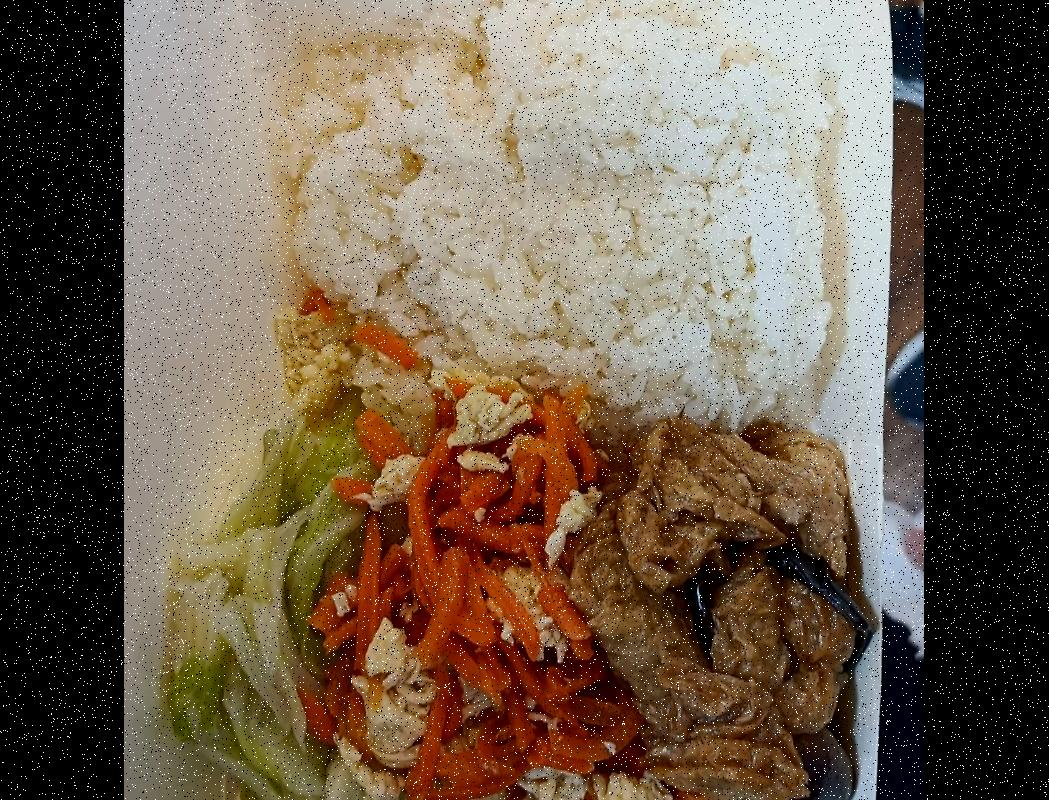big grilled chicken leg: (219, 0, 894, 800)
big herbal chicken leg: (275, 0, 843, 435)
braised fish fillet: (317, 372, 610, 800), (580, 434, 859, 800), (153, 404, 371, 800)
